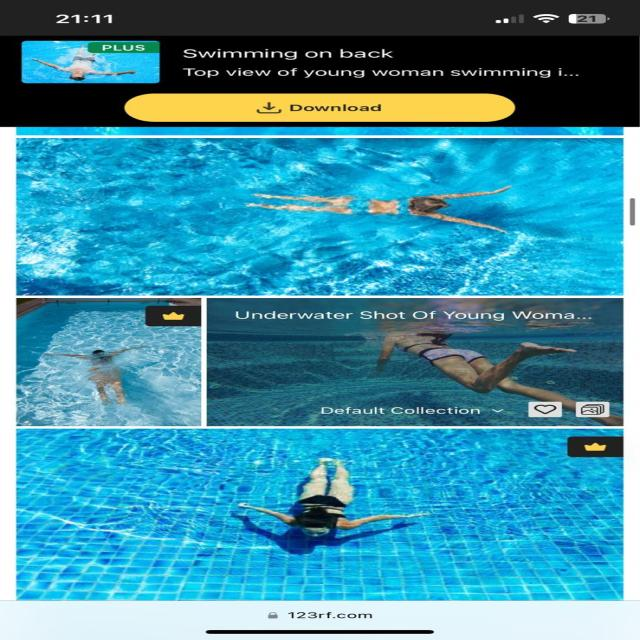Swimming: (360, 326, 600, 412), (246, 459, 416, 539), (244, 188, 509, 232), (50, 343, 146, 404)
